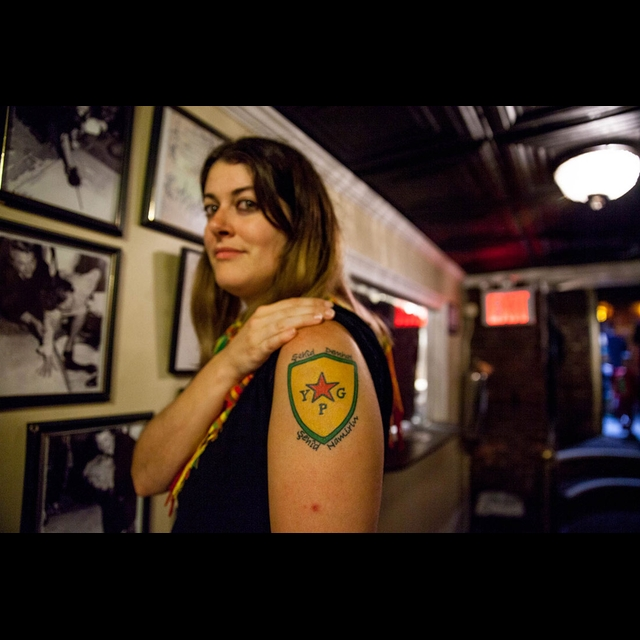YPG: (300, 369, 345, 420)
